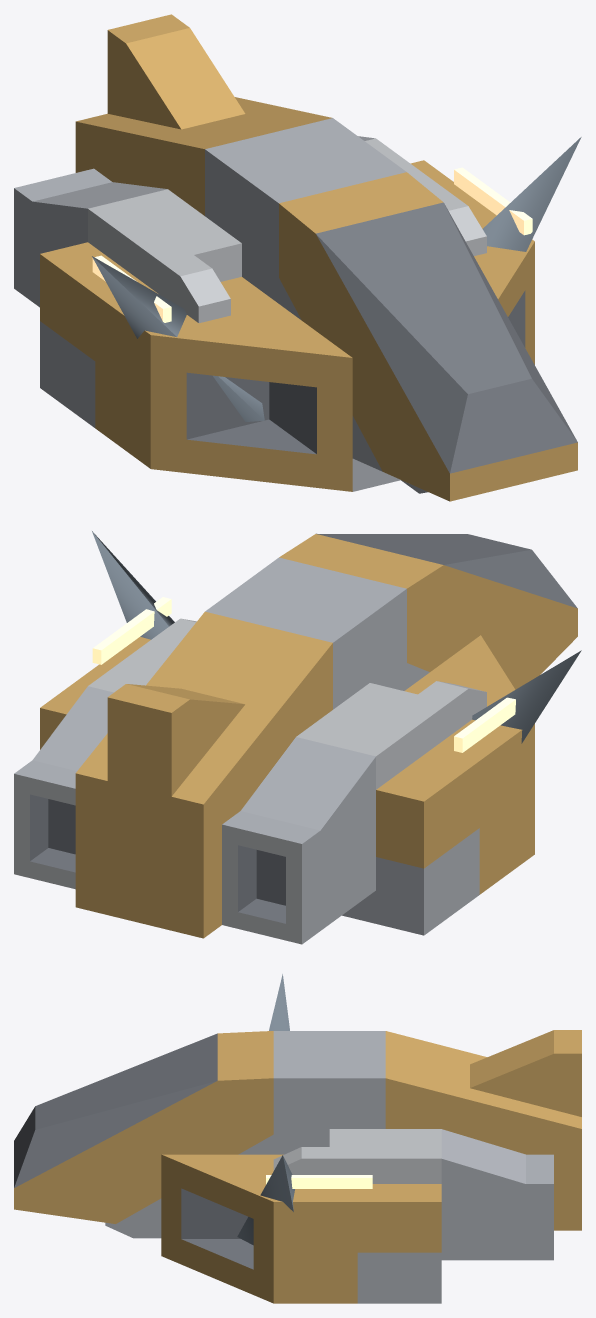
Rendered from enemy_swarm.glb.
3 renders of one model, top to bottom at view 1: azimuth 30°, elevation 25°; view 2: azimuth 150°, elevation 25°; view 3: azimuth 270°, elevation 25°, orthographic. The views are drawn at different scales.
Visible parts, largest first — view 1: enemy_swarm; view 2: enemy_swarm; view 3: enemy_swarm.
Part boxes in pixels (bbox=[...]): enemy_swarm: bbox=[14, 14, 581, 501]; enemy_swarm: bbox=[14, 531, 581, 944]; enemy_swarm: bbox=[14, 974, 581, 1303].
Bounding box in the file's own units: 1.41 × 0.6915 × 1.87.
